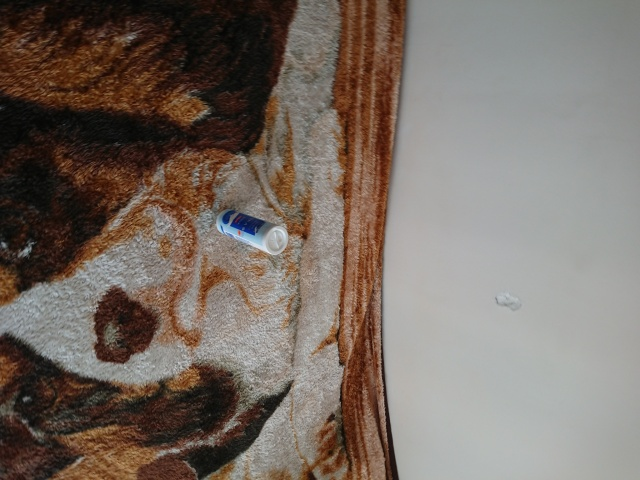Solana Pag Fine Sea Salt 250g: (214, 207, 290, 258)
